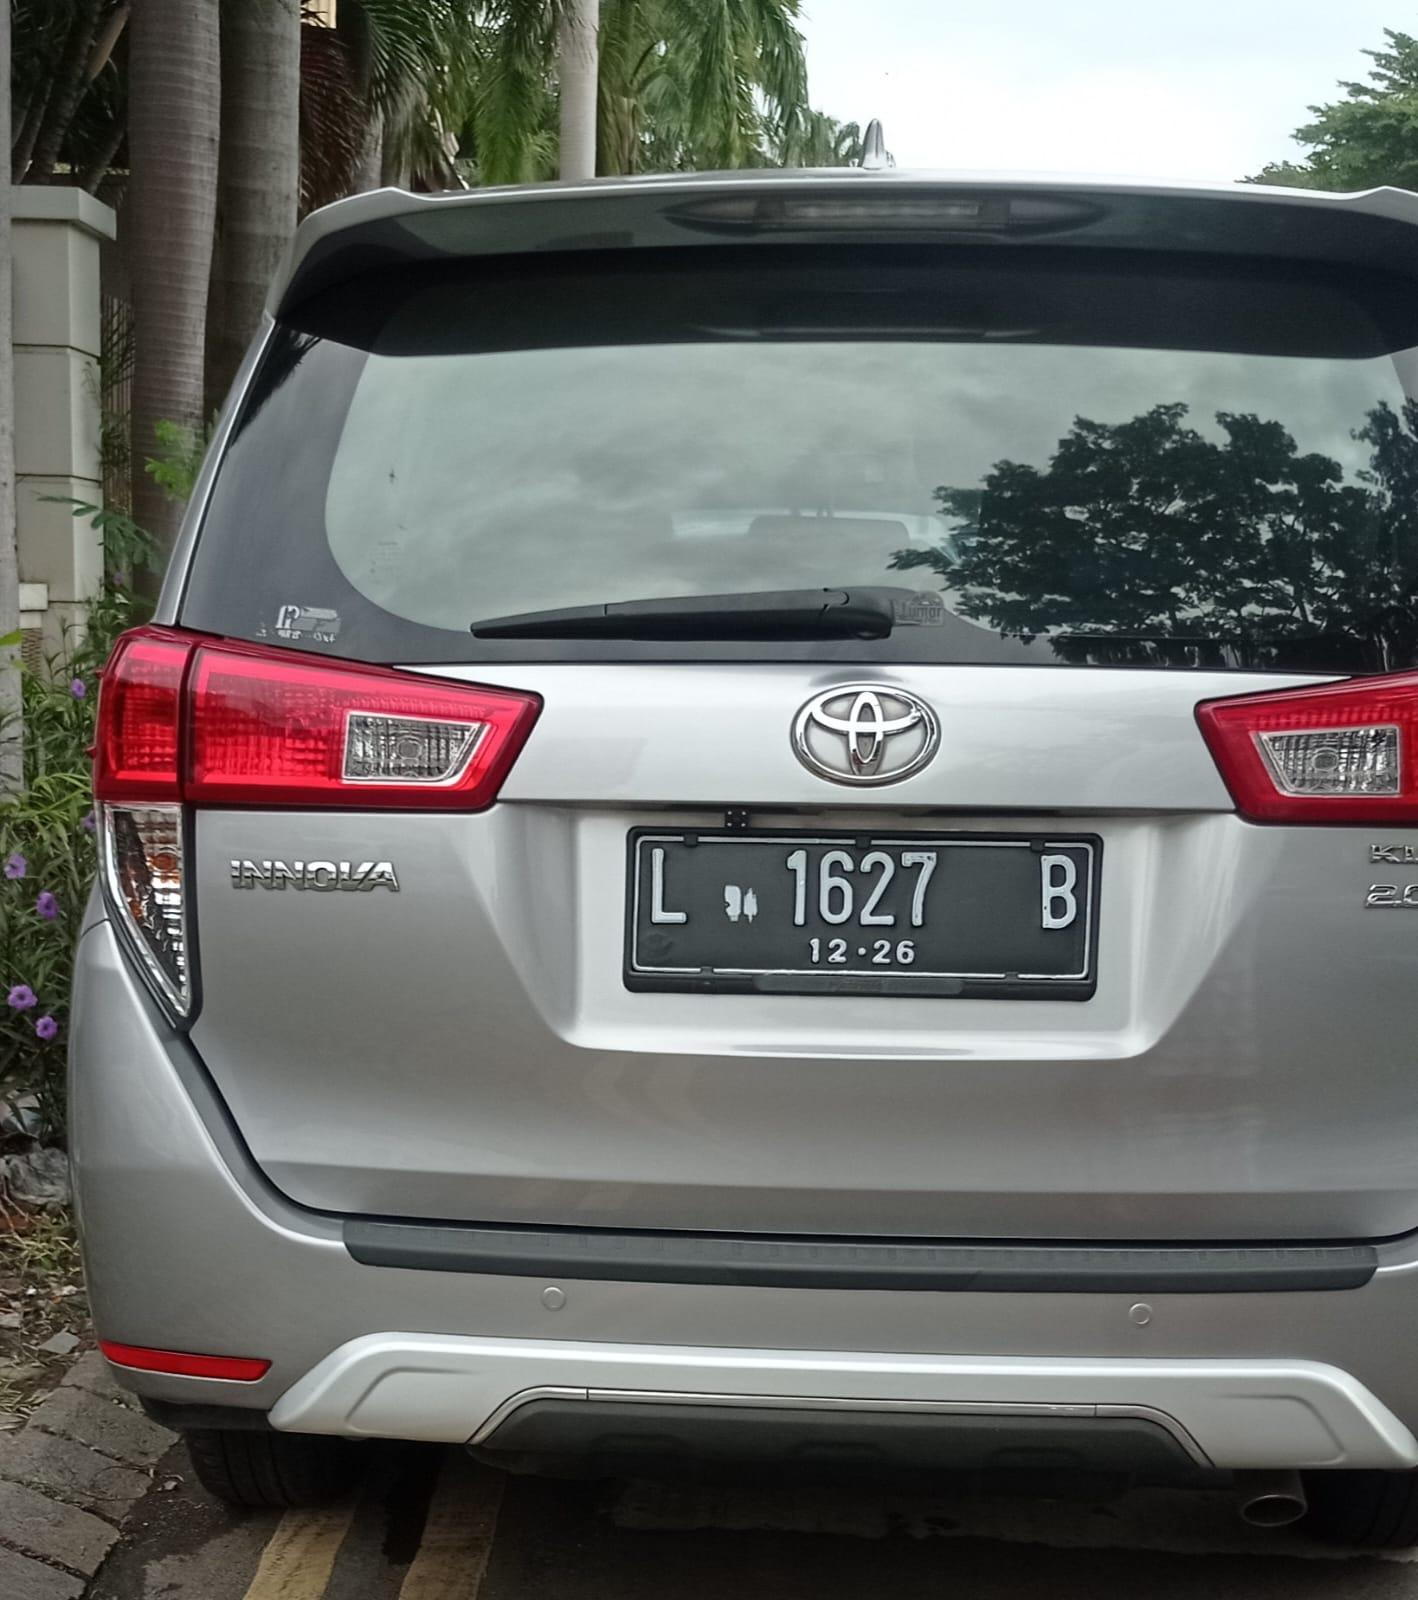plat: (626, 828, 1100, 1001)
